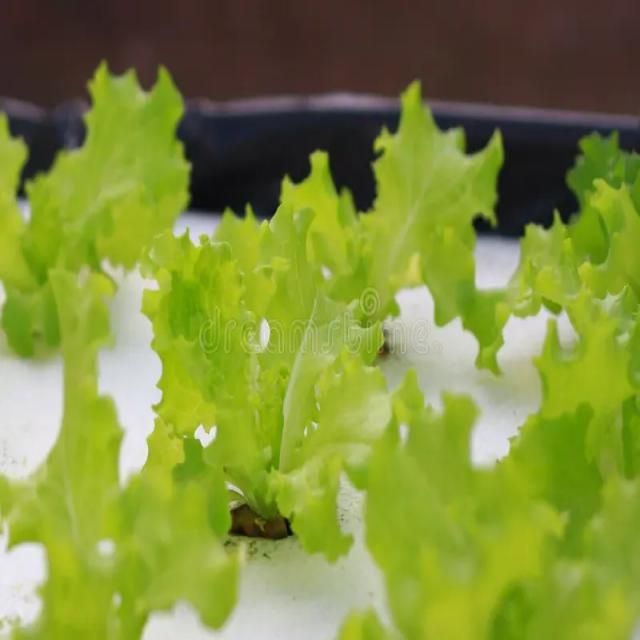verde: (143, 206, 390, 559)
